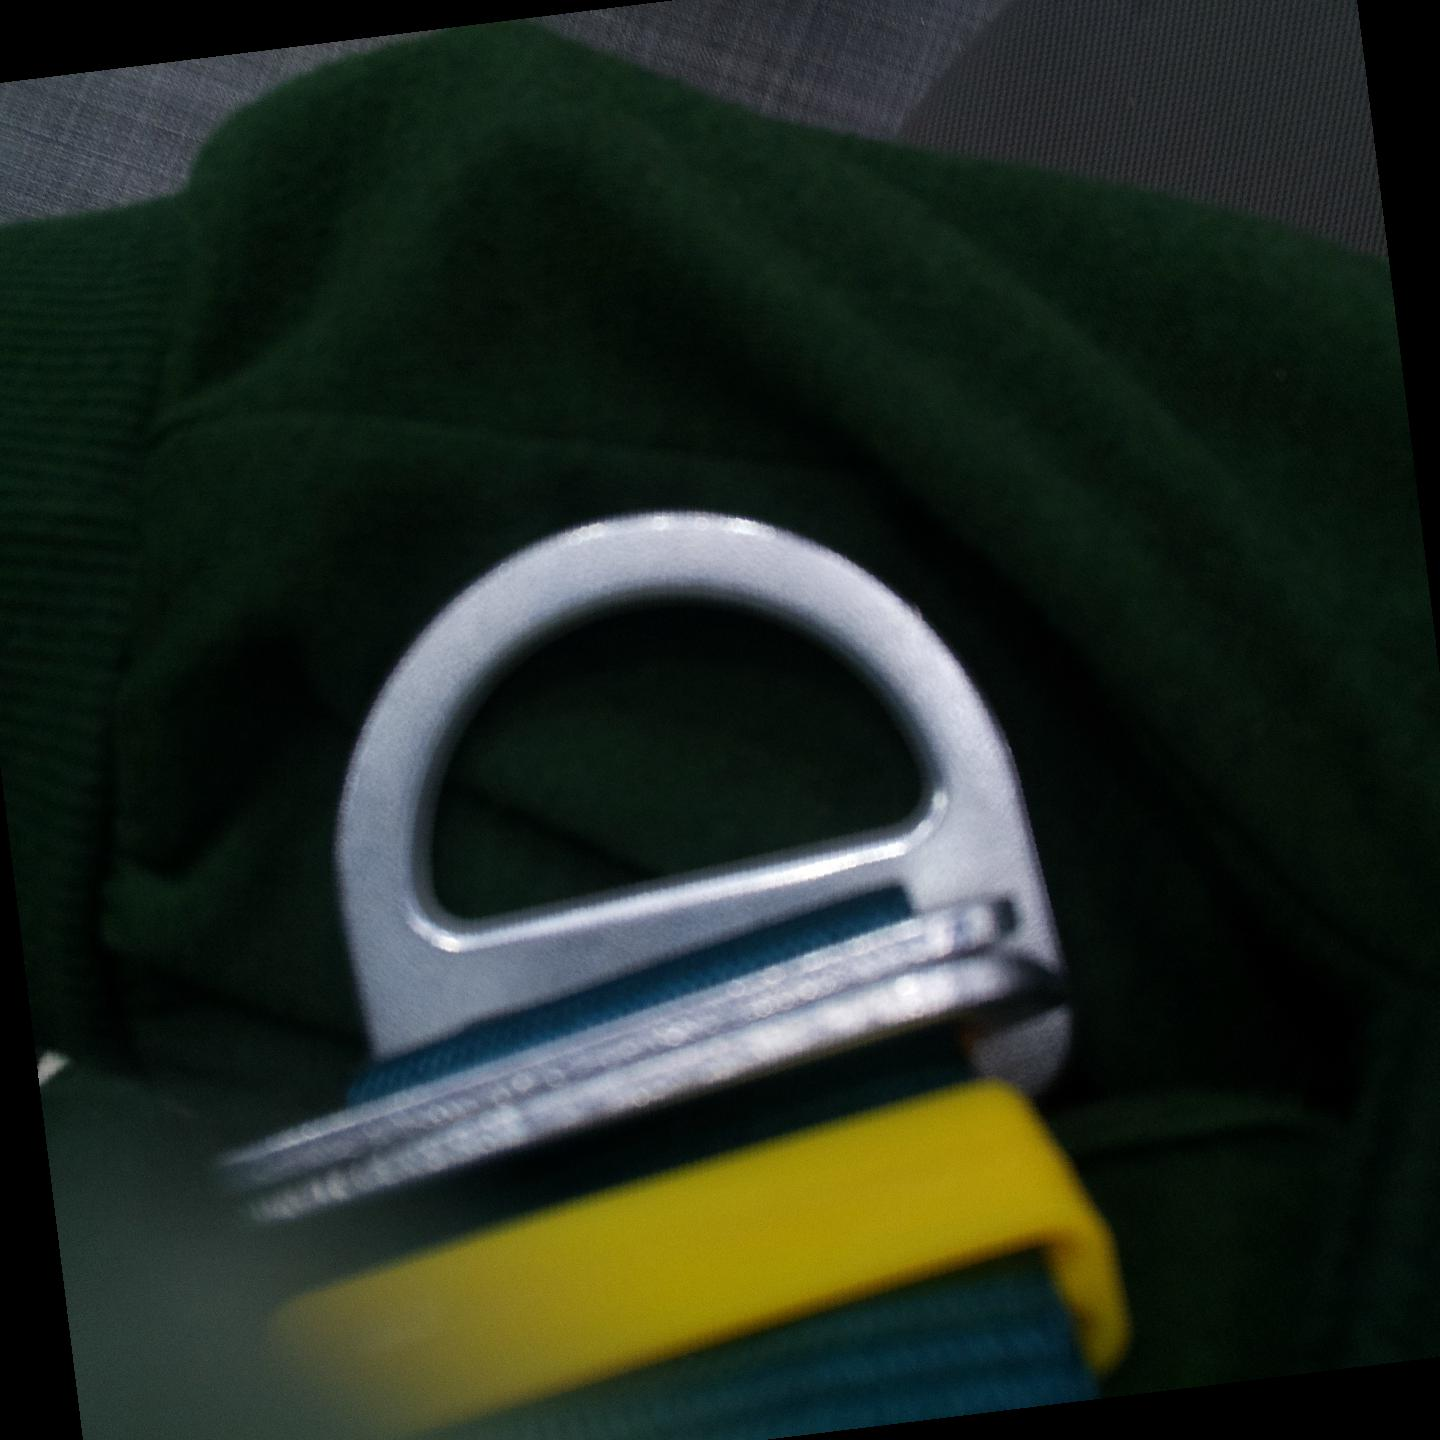UNSUCCESS: (315, 508, 1021, 967)
